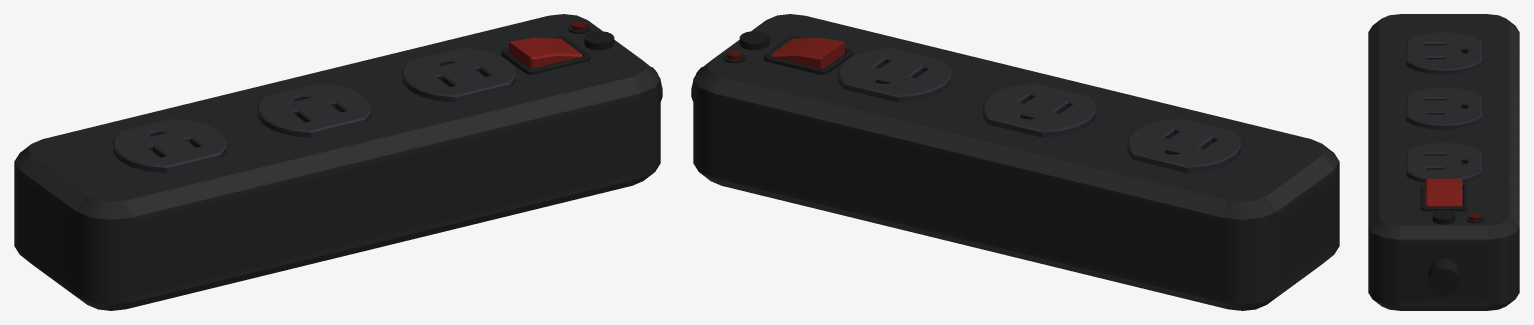
The picture shows the model from 3 angles, left to right: view 1: azimuth 30°, elevation 25°; view 2: azimuth 150°, elevation 25°; view 3: azimuth 270°, elevation 25°; orthographic projection. The views are drawn at different scales.
Visible parts, largest first — view 1: strip3_shell, strip3_face_a1, strip3_face_a0, strip3_face_a2, strip3_rocker_on, strip3_bezel, strip3_button; view 2: strip3_shell, strip3_face_a1, strip3_face_a0, strip3_face_a2, strip3_rocker_on, strip3_bezel, strip3_button; view 3: strip3_shell, strip3_face_a1, strip3_face_a0, strip3_face_a2, strip3_rocker_on, strip3_grommet, strip3_bezel, strip3_button.
Boxes of the visible parts, x1,y1,x2,y2 form: strip3_shell: (14, 14, 660, 310); strip3_face_a1: (257, 83, 371, 137); strip3_face_a0: (112, 118, 226, 172); strip3_face_a2: (402, 48, 515, 102); strip3_rocker_on: (509, 37, 582, 68); strip3_bezel: (501, 35, 590, 74); strip3_button: (584, 31, 614, 50); strip3_shell: (693, 14, 1339, 310); strip3_face_a1: (982, 83, 1096, 137); strip3_face_a0: (1127, 118, 1241, 172); strip3_face_a2: (838, 48, 951, 102); strip3_rocker_on: (771, 37, 844, 68); strip3_bezel: (763, 35, 852, 74); strip3_button: (739, 31, 769, 50); strip3_shell: (1368, 14, 1519, 310); strip3_face_a1: (1406, 87, 1481, 129); strip3_face_a0: (1406, 32, 1481, 74); strip3_face_a2: (1406, 142, 1481, 183); strip3_rocker_on: (1425, 178, 1462, 206); strip3_grommet: (1428, 258, 1459, 296); strip3_bezel: (1420, 184, 1467, 211); strip3_button: (1432, 209, 1455, 224).
Bounding box in the file's own units: 0.3135 × 0.0609 × 0.087.
